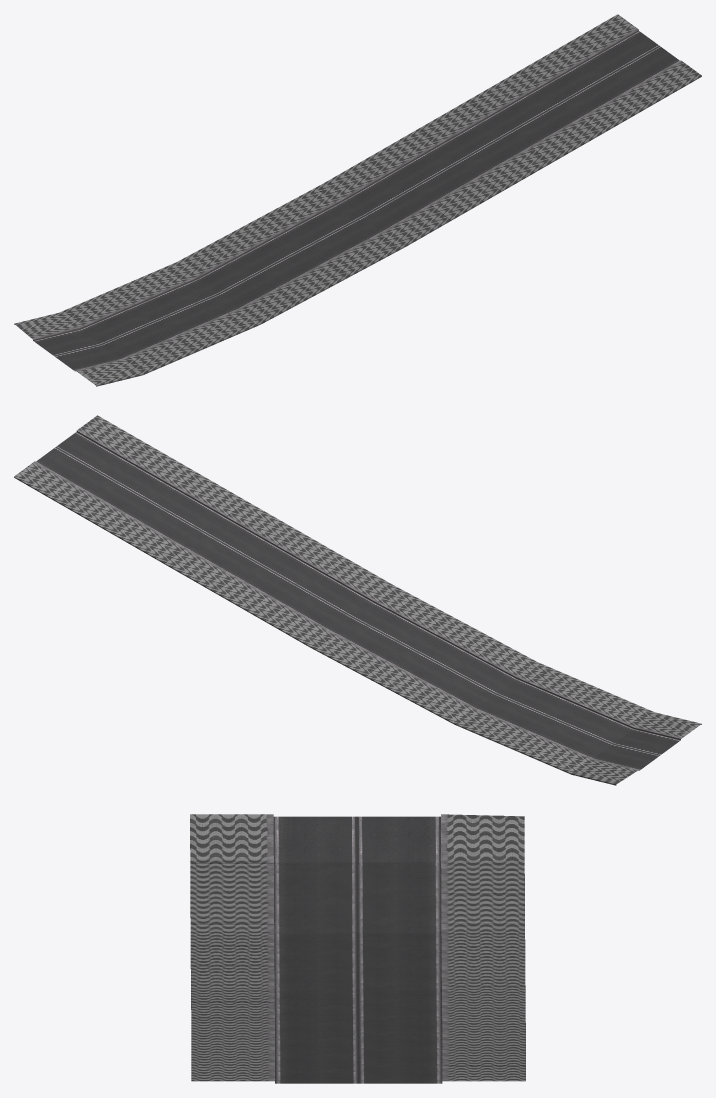
Rendered from roadssfs08.obj.
3 renders of one model, top to bottom at view 1: azimuth 30°, elevation 25°; view 2: azimuth 150°, elevation 25°; view 3: azimuth 270°, elevation 25°, orthographic. The views are drawn at different scales.
Parts seen in each view (by area): view 1: ROADSsfs08; view 2: ROADSsfs08; view 3: ROADSsfs08.
Boxes of the visible parts, x1=… form: ROADSsfs08: x1=14, y1=14, x2=701, y2=386; ROADSsfs08: x1=14, y1=415, x2=701, y2=785; ROADSsfs08: x1=190, y1=814, x2=525, y2=1083.
Size of the model in its own units: 83.43 by 21.44 by 20.09.
Materials: 3 (3 with a texture image).
